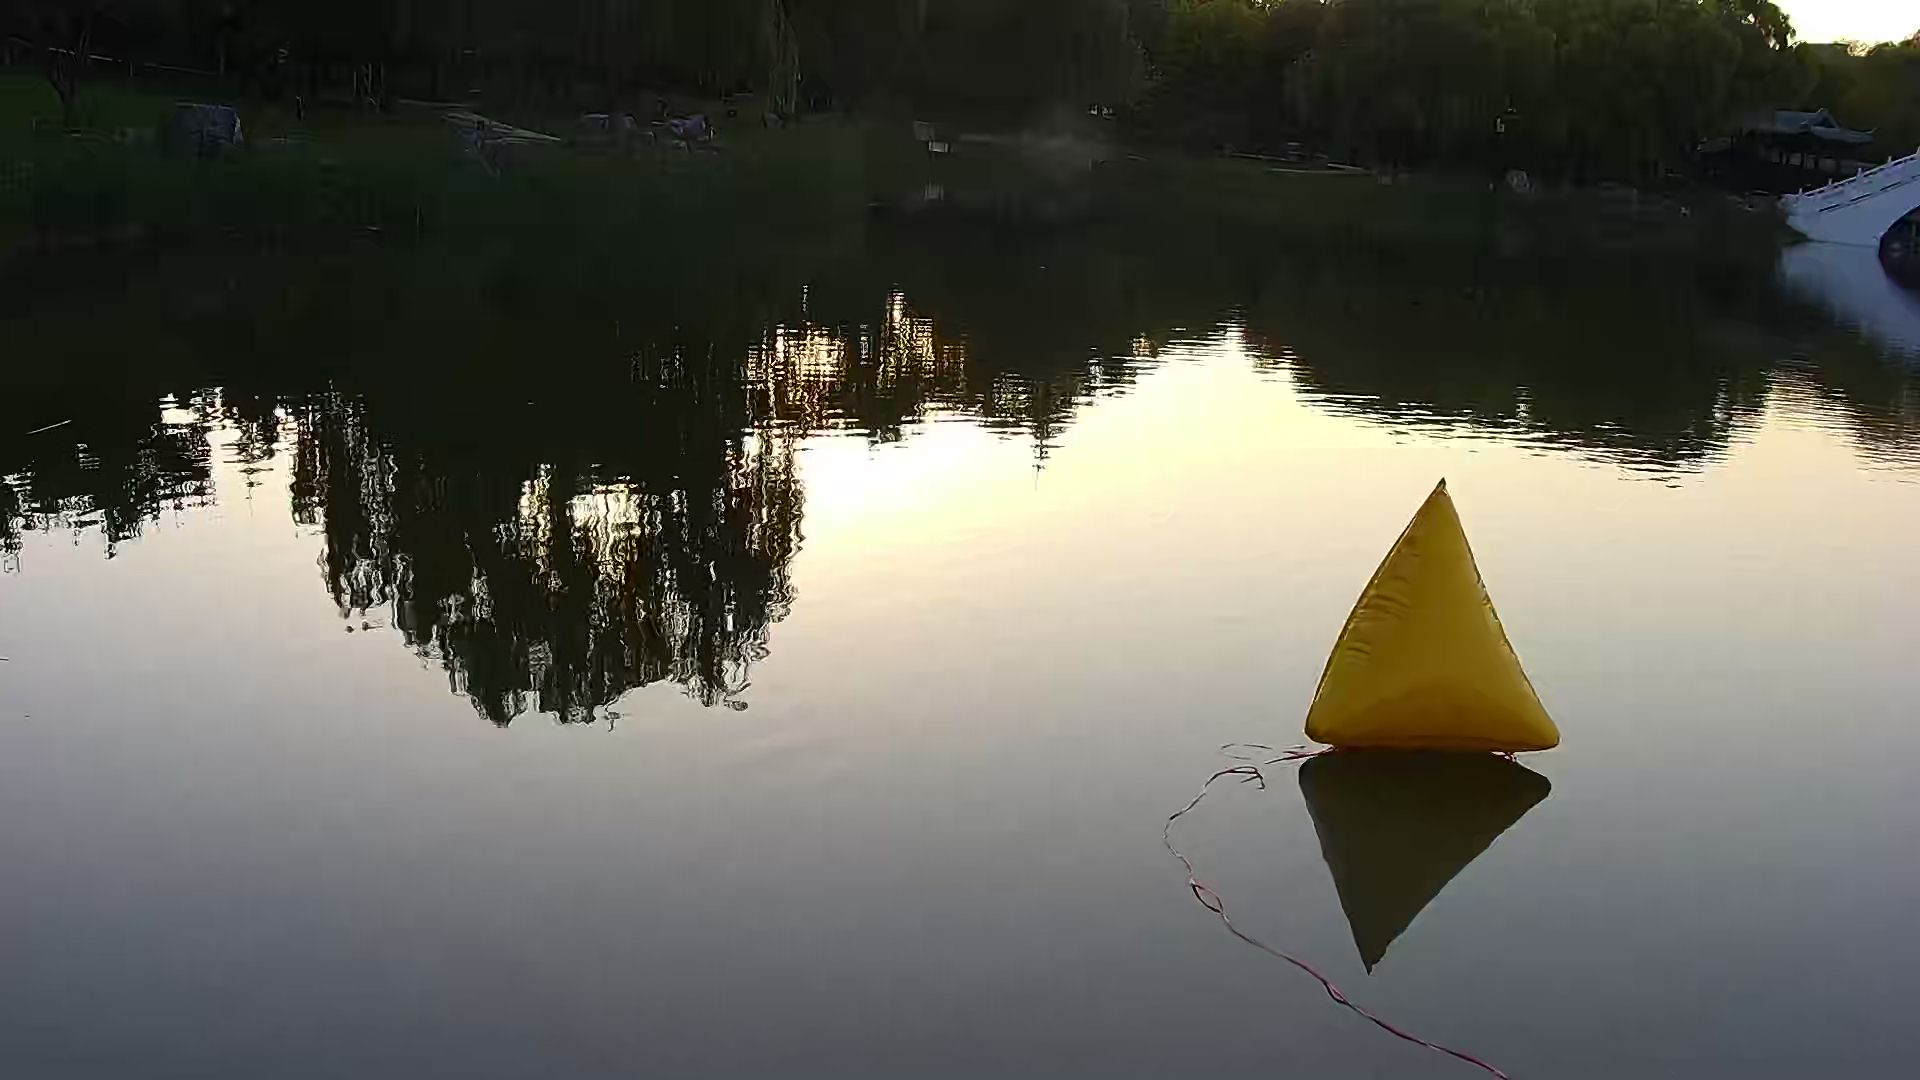bridge: (1789, 142, 1916, 249)
rubbish: (1305, 479, 1556, 765)
